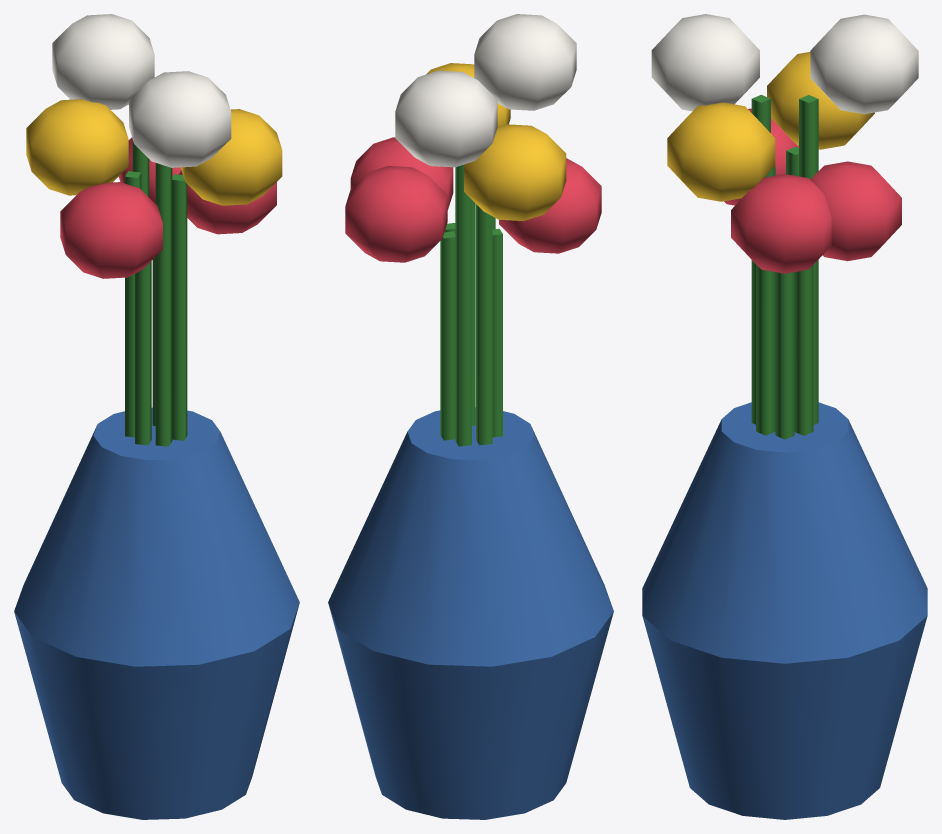
File: flower_vase.glb
3 renders of one model, left to right at view 1: azimuth 30°, elevation 25°; view 2: azimuth 150°, elevation 25°; view 3: azimuth 270°, elevation 25°, orthographic. The views are drawn at different scales.
Visible parts, largest first — view 1: flower_vase; view 2: flower_vase; view 3: flower_vase.
Part boxes in pixels (x1,y1,x2,y2): flower_vase: (14, 14, 299, 819); flower_vase: (328, 14, 613, 819); flower_vase: (642, 14, 927, 819).
Size of the model in its own units: 0.18 by 0.51 by 0.1755.
